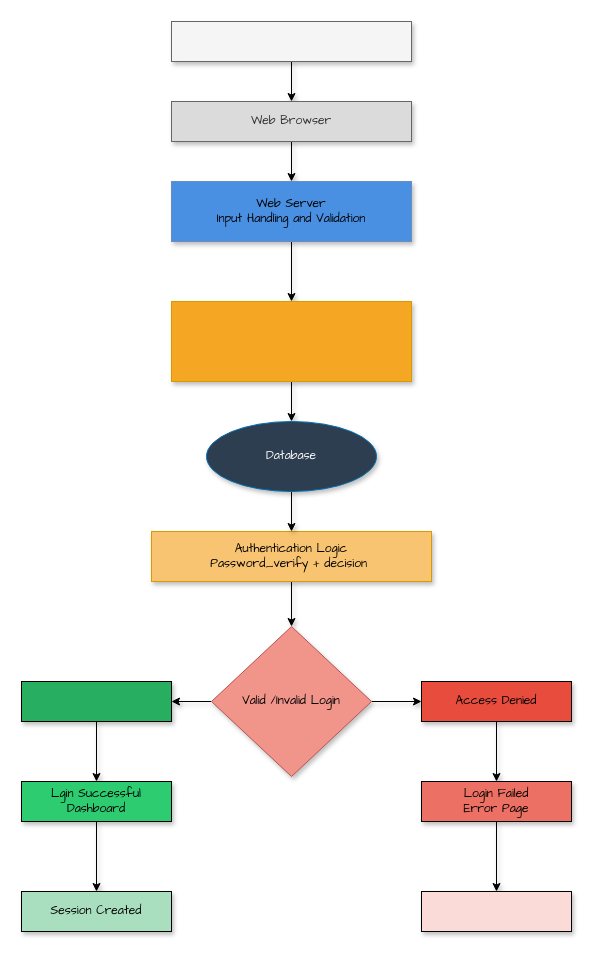
Image size: 595x956. Some labels were removed from this diagram. The centre of each missing label's shape, as x and y in pixels:
"Access Granted" goes at pixel 97 702.
"Authentication Logic SQL Query: SELECT Password FROM users WERE username=?" goes at pixel 292 342.
"Error Message" goes at pixel 497 912.
"User Input" goes at pixel 292 42.
